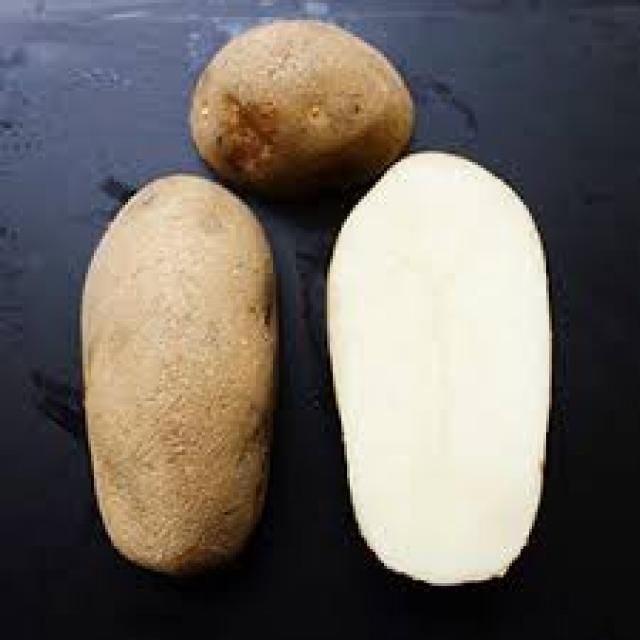Potato: (82, 176, 276, 576), (191, 20, 415, 202)
